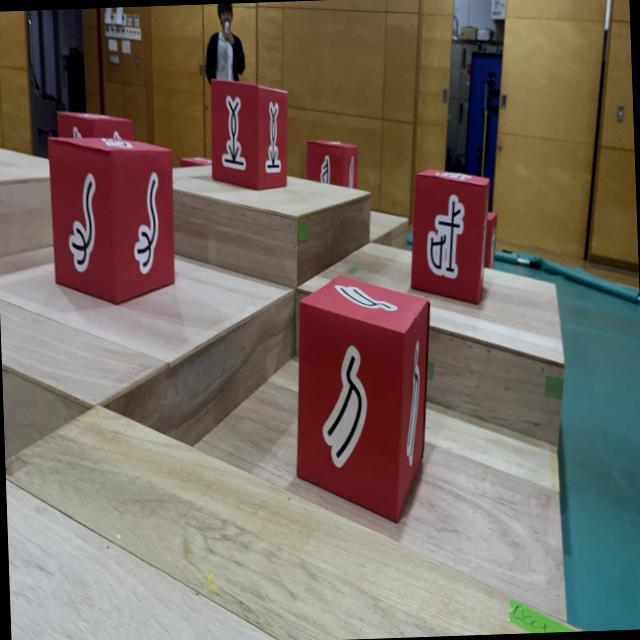10: (318, 342, 369, 470), (402, 339, 424, 468), (332, 281, 398, 315)
11: (318, 154, 331, 184), (346, 154, 356, 189)
13: (65, 170, 100, 274), (130, 169, 163, 273)
5: (423, 192, 468, 280)
7: (218, 92, 246, 172), (263, 100, 281, 174)
fighter: (287, 270, 438, 528), (46, 132, 178, 308), (406, 166, 494, 308), (208, 76, 291, 192), (305, 138, 360, 191), (55, 108, 134, 144), (482, 210, 500, 270), (179, 156, 211, 168)
